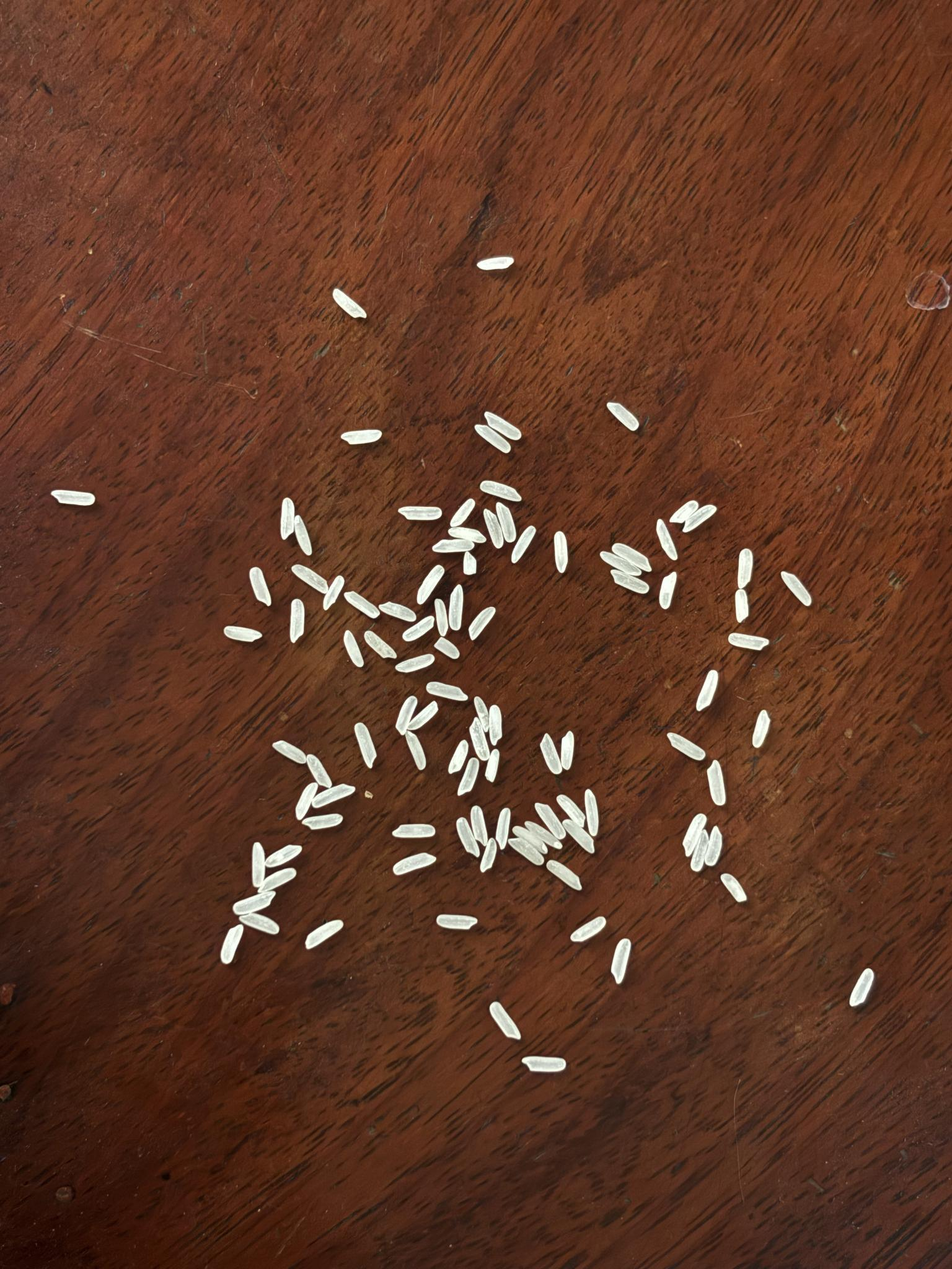Rice-th-y-nh: (563, 819, 595, 854), (490, 1002, 520, 1039), (535, 803, 565, 840), (305, 920, 343, 949), (292, 564, 328, 594), (524, 821, 562, 849), (417, 565, 444, 604), (613, 544, 652, 571), (354, 722, 377, 767), (233, 891, 276, 915), (547, 861, 582, 890), (682, 814, 706, 856), (781, 572, 811, 605), (475, 425, 511, 452), (485, 412, 521, 439), (313, 784, 355, 807), (668, 734, 705, 760), (220, 924, 244, 964), (333, 289, 366, 318), (455, 818, 480, 856), (509, 838, 544, 865), (248, 842, 269, 887), (696, 670, 719, 711), (511, 526, 536, 563), (849, 969, 874, 1006), (599, 553, 641, 575), (394, 853, 436, 875), (655, 520, 678, 560), (539, 734, 562, 774), (258, 868, 296, 892), (683, 505, 716, 532), (571, 917, 606, 942), (557, 795, 585, 826), (608, 402, 639, 430), (408, 702, 439, 730), (306, 755, 332, 788), (345, 591, 378, 617), (240, 912, 279, 934), (513, 827, 546, 853), (294, 783, 317, 820), (480, 481, 522, 501), (365, 631, 396, 658), (611, 571, 649, 593), (611, 939, 630, 983), (469, 608, 495, 640), (469, 718, 489, 759), (405, 731, 426, 770), (483, 509, 504, 548), (249, 567, 271, 604), (396, 696, 417, 734), (266, 845, 302, 867), (458, 758, 479, 795), (496, 503, 516, 541), (273, 740, 306, 763), (403, 617, 434, 641), (470, 806, 489, 845), (426, 682, 467, 700), (343, 631, 364, 666), (708, 762, 725, 805), (522, 1056, 567, 1072), (584, 790, 600, 835), (691, 832, 709, 871), (721, 874, 746, 902), (323, 576, 344, 609), (380, 602, 416, 621), (451, 499, 475, 527), (397, 654, 434, 672), (495, 808, 511, 849), (295, 517, 312, 555), (448, 526, 486, 543), (448, 741, 468, 773), (280, 498, 296, 538), (729, 634, 768, 650), (303, 814, 342, 830), (706, 827, 722, 866), (670, 501, 698, 523), (449, 586, 463, 630), (436, 914, 477, 929), (480, 838, 498, 872), (753, 711, 770, 747), (52, 490, 95, 504), (659, 573, 676, 608), (393, 824, 435, 838), (738, 549, 753, 588), (399, 507, 442, 520), (291, 600, 304, 643), (342, 430, 381, 444), (489, 705, 503, 743), (434, 637, 459, 658), (561, 731, 574, 771), (555, 533, 568, 572), (225, 627, 261, 641), (433, 540, 475, 552), (474, 697, 489, 730), (478, 256, 513, 270), (485, 749, 500, 781), (435, 599, 448, 635), (735, 590, 748, 622), (463, 552, 476, 574)
